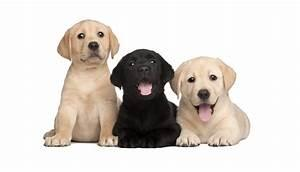dog: (42, 18, 121, 147), (169, 55, 250, 146), (109, 48, 180, 147)
